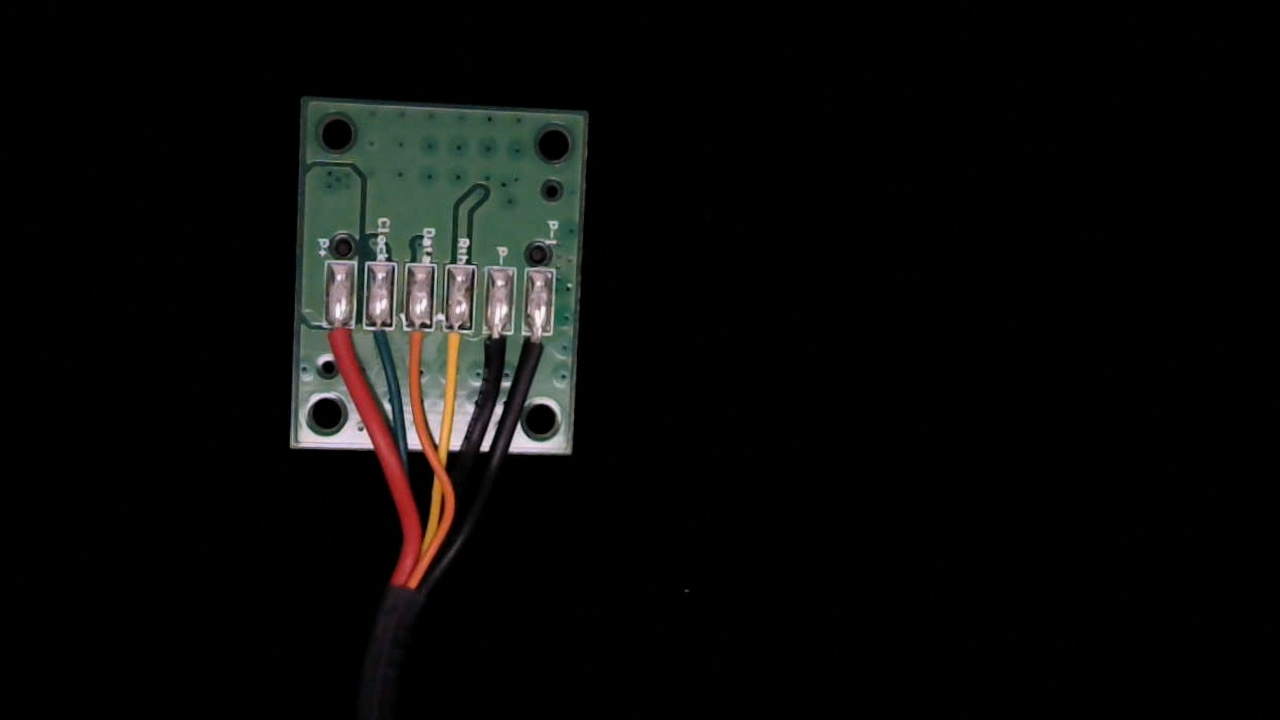Black: (479, 318, 514, 379)
Black1: (522, 316, 554, 370)
Green: (362, 316, 396, 367)
Orange: (404, 314, 434, 383)
Red: (324, 314, 356, 376)
Yellow: (438, 312, 469, 387)
